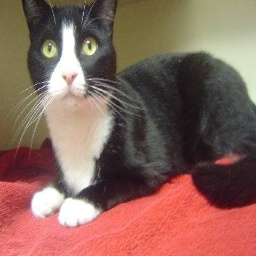cat: (22, 0, 256, 228)
